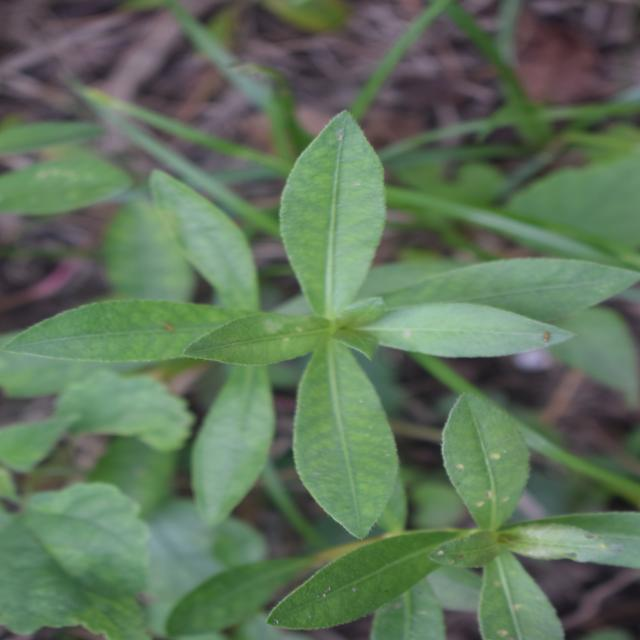Alligatorweed: (197, 65, 489, 595)
